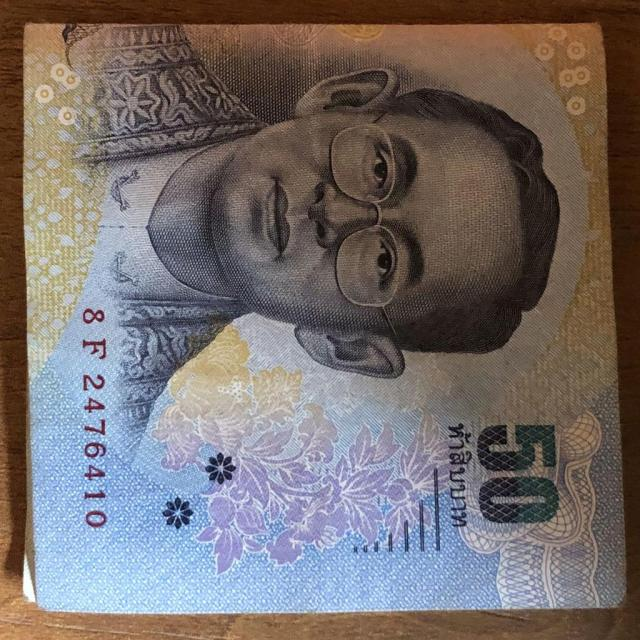THAI50: (23, 24, 624, 613)
